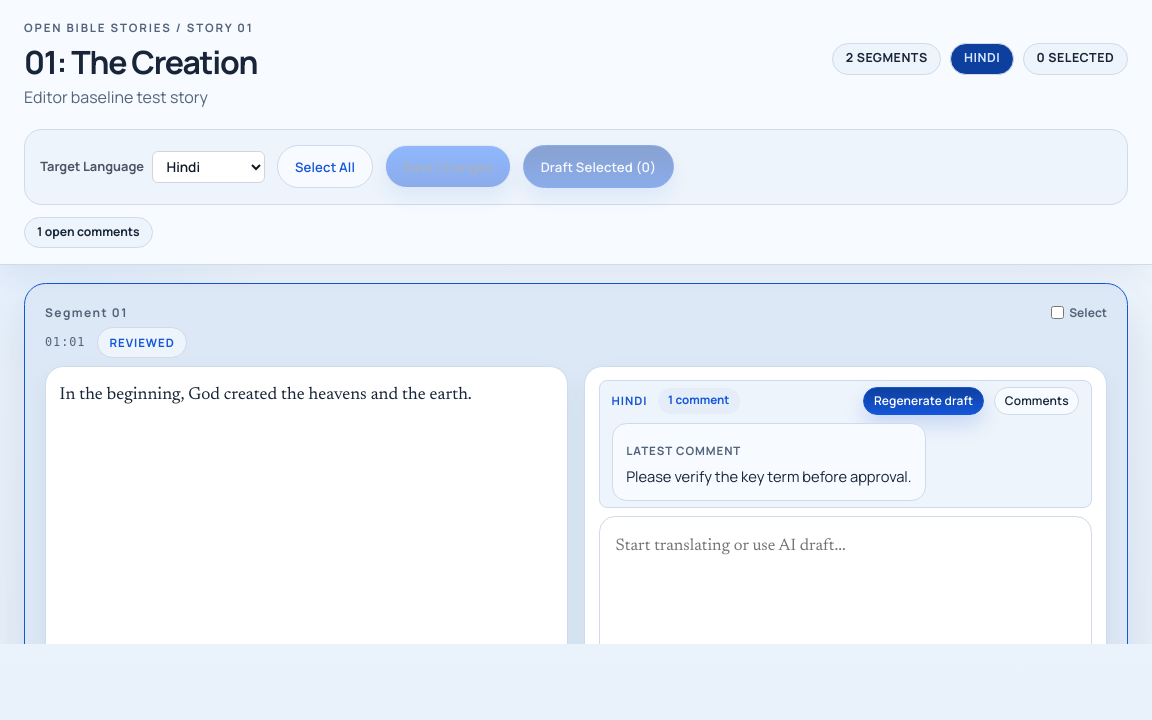
Test: StoryEditorBaseline › opens segment comments inline without relying on a sidebar
expect the text "1 comment" is shown: met, box [658,388,740,414]
Click the button with test id "segment-comments-toggle-01:01" at point(1037, 401), box [994,387,1079,415]
(page scrolled)
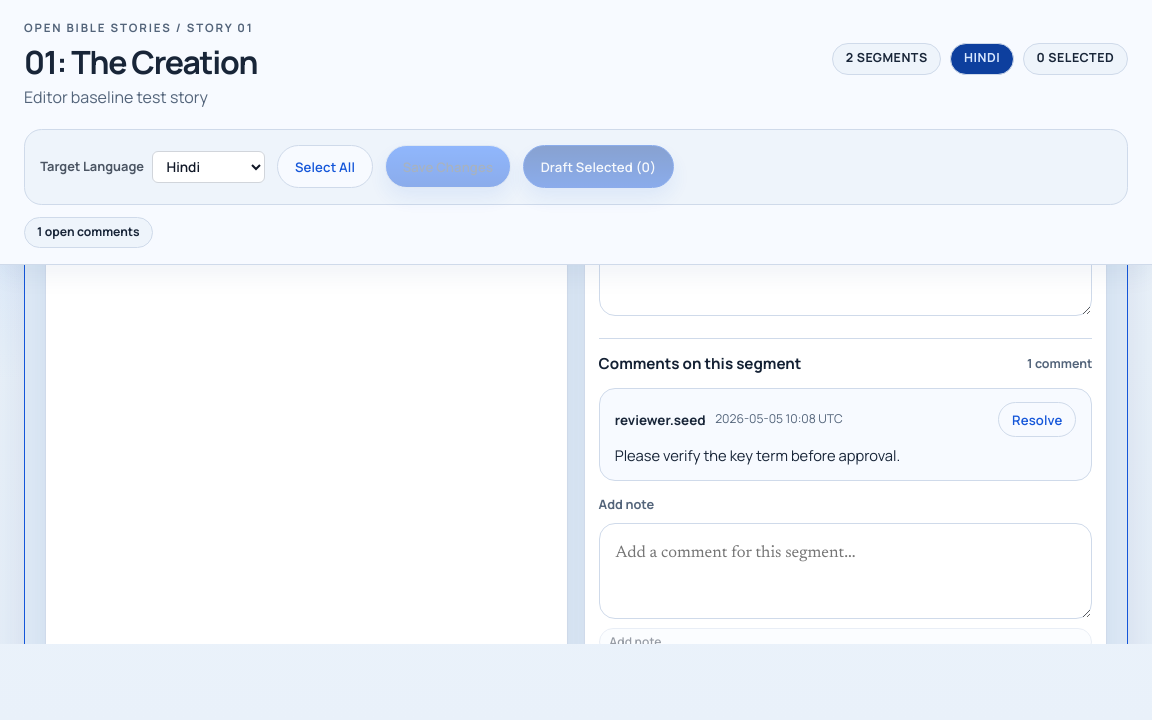
expect the element with test id "segment-comments-01:01" is shown: met, box [599,338,1092,644]
